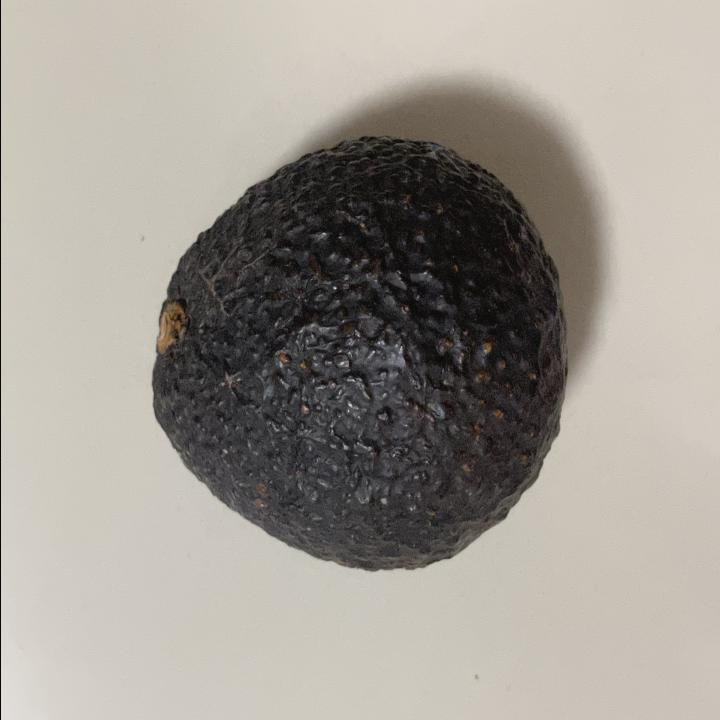Level3: (137, 126, 575, 582)
